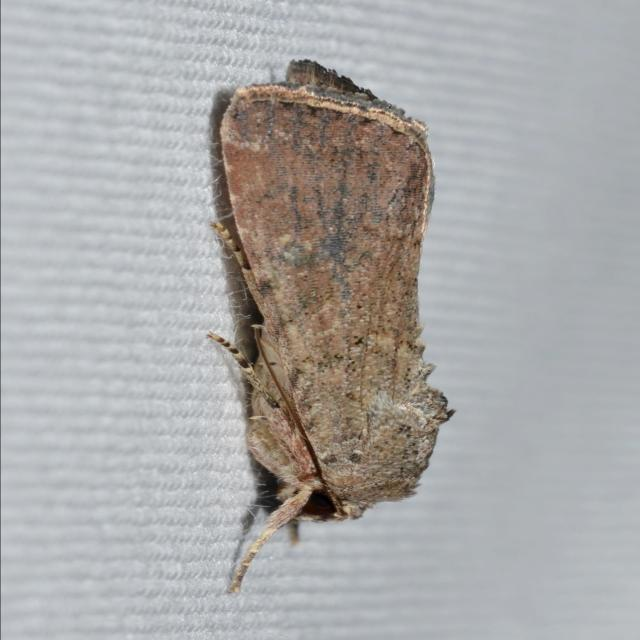army worm: (221, 58, 456, 594)
